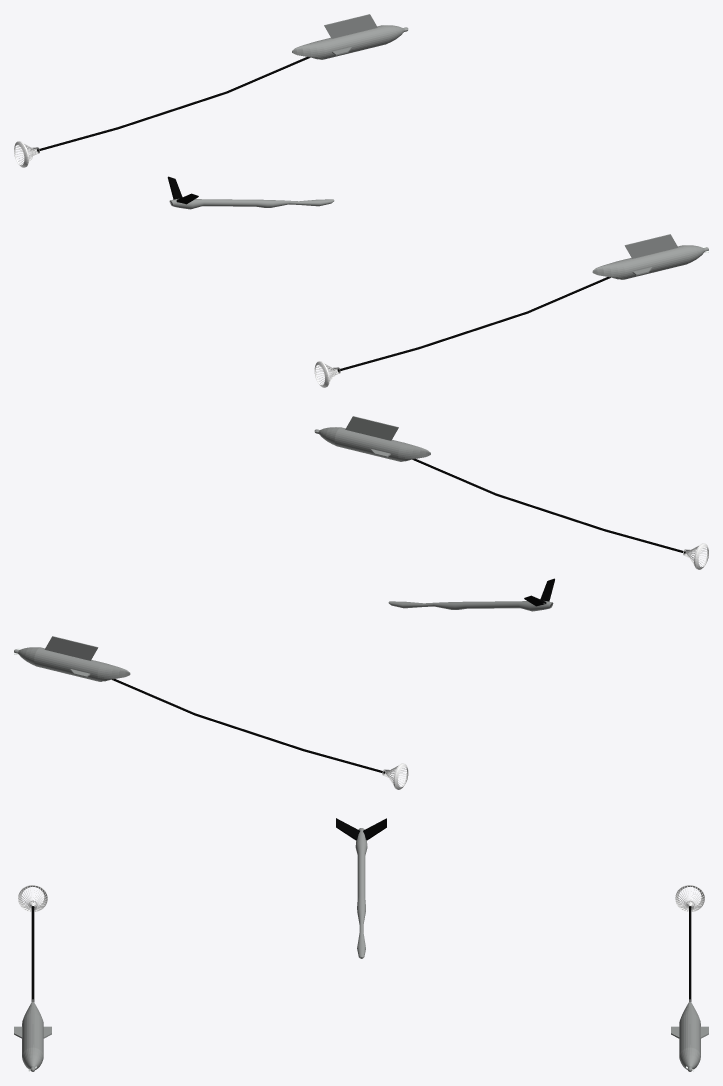
Rendered from mrttdon.glb.
3 views of the same model, one above another, from view 1: azimuth 30°, elevation 25°; view 2: azimuth 150°, elevation 25°; view 3: azimuth 270°, elevation 25° (orthographic). The views are drawn at different scales.
Visible parts, largest first — view 1: 立方体.003, 立方体, boom.002, 立方体.001, 立方体.002; view 2: 立方体, 立方体.003, boom.002, 立方体.001, 立方体.002; view 3: 立方体, 立方体.003, boom.002, 立方体.001, 立方体.002.
Part boxes in pixels (x1=…): 立方体.003: x1=592, y1=234, x2=708, y2=279; 立方体: x1=292, y1=14, x2=408, y2=59; boom.002: x1=167, y1=176, x2=289, y2=209; 立方体.001: x1=314, y1=277, x2=610, y2=387; 立方体.002: x1=14, y1=57, x2=310, y2=167; 立方体: x1=14, y1=636, x2=130, y2=681; 立方体.003: x1=314, y1=416, x2=430, y2=461; boom.002: x1=433, y1=578, x2=554, y2=611; 立方体.001: x1=412, y1=459, x2=708, y2=569; 立方体.002: x1=112, y1=679, x2=408, y2=789; 立方体: x1=671, y1=999, x2=708, y2=1071; 立方体.003: x1=14, y1=999, x2=51, y2=1071; boom.002: x1=336, y1=818, x2=386, y2=924; 立方体.001: x1=18, y1=885, x2=47, y2=1001; 立方体.002: x1=675, y1=885, x2=704, y2=1001.
Size of the model in its own units: 31.01 by 6.84 by 43.88.
10 materials, 1 textured.
